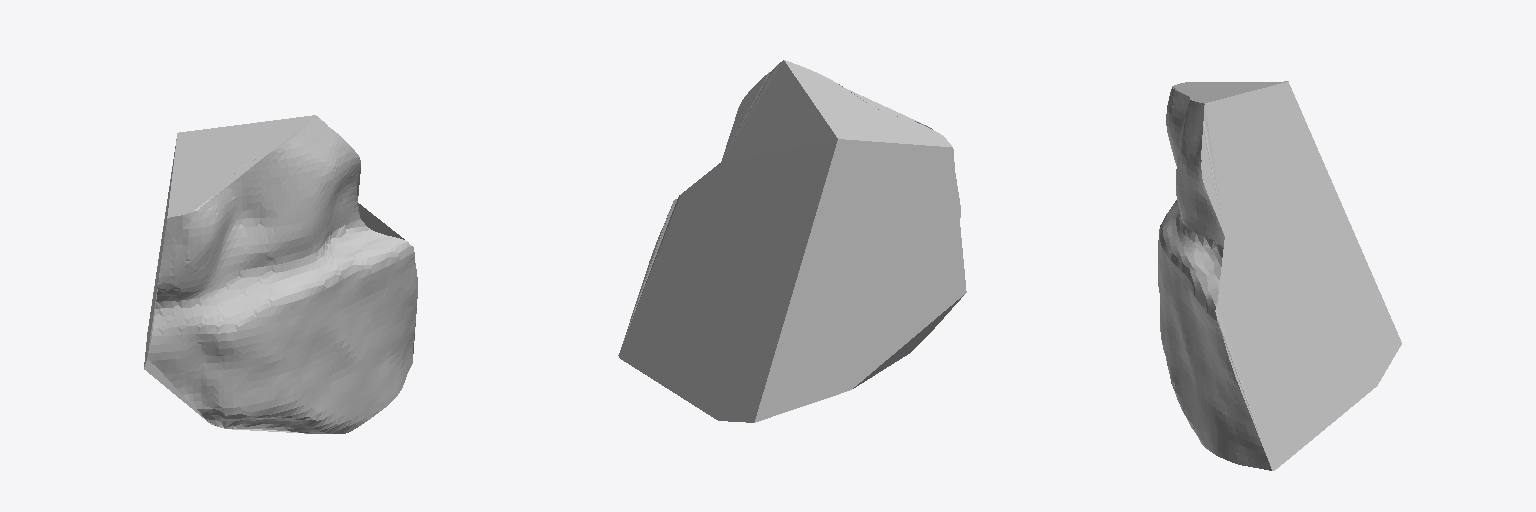
The model's file is low_cell_072.obj.
3 views of the same model, side by side, from view 1: azimuth 30°, elevation 25°; view 2: azimuth 150°, elevation 25°; view 3: azimuth 270°, elevation 25° (orthographic).
Parts seen in each view (by area): view 1: low_cell.072_low_cell.071; view 2: low_cell.072_low_cell.071; view 3: low_cell.072_low_cell.071.
Part boxes in pixels (x1,y1,x2,y2): low_cell.072_low_cell.071: (144,115,417,433); low_cell.072_low_cell.071: (618,60,966,422); low_cell.072_low_cell.071: (1158,81,1401,470).
Size of the model in its own units: 0.8297 by 0.8424 by 0.5722.